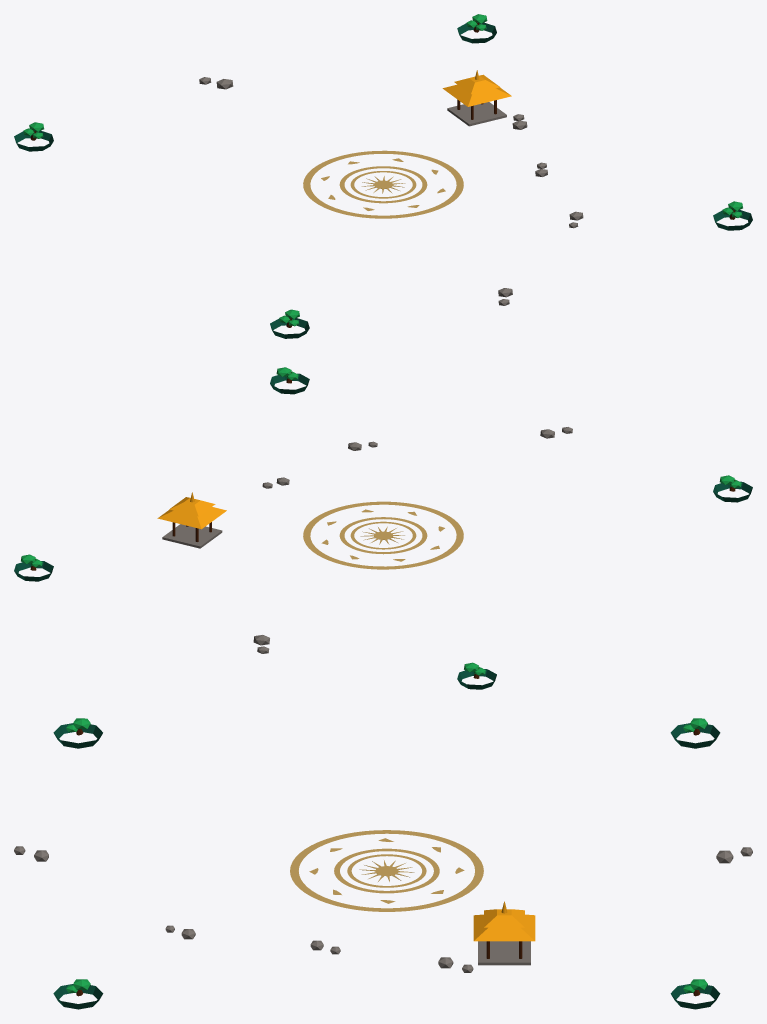
The model's file is indochine_master_landscape.glb.
3 renders of one model, top to bottom at view 1: azimuth 30°, elevation 25°; view 2: azimuth 150°, elevation 25°; view 3: azimuth 270°, elevation 25°, orthographic. The views are drawn at different scales.
Parts seen in each view (by area): view 1: DongSon_Bronze_Relief, Corner_Bonsai_Planters, Indochine_Golden_Pagoda, Riverbank_Boulders; view 2: DongSon_Bronze_Relief, Corner_Bonsai_Planters, Indochine_Golden_Pagoda, Riverbank_Boulders; view 3: DongSon_Bronze_Relief, Corner_Bonsai_Planters, Indochine_Golden_Pagoda, Riverbank_Boulders.
Boxes of the visible parts, bbox=[...] form: DongSon_Bronze_Relief: bbox=[303, 150, 463, 218]; Corner_Bonsai_Planters: bbox=[14, 14, 752, 338]; Indochine_Golden_Pagoda: bbox=[442, 70, 511, 126]; Riverbank_Boulders: bbox=[199, 77, 583, 305]; DongSon_Bronze_Relief: bbox=[303, 501, 463, 569]; Corner_Bonsai_Planters: bbox=[14, 367, 752, 689]; Indochine_Golden_Pagoda: bbox=[157, 492, 226, 548]; Riverbank_Boulders: bbox=[253, 427, 572, 653]; DongSon_Bronze_Relief: bbox=[290, 830, 483, 911]; Corner_Bonsai_Planters: bbox=[53, 718, 720, 1009]; Indochine_Golden_Pagoda: bbox=[473, 901, 535, 965]; Riverbank_Boulders: bbox=[14, 846, 752, 972].
Size of the model in its own units: 9.08 by 0.844 by 10.06.
